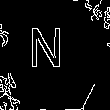N_S: (37, 29, 73, 81)
